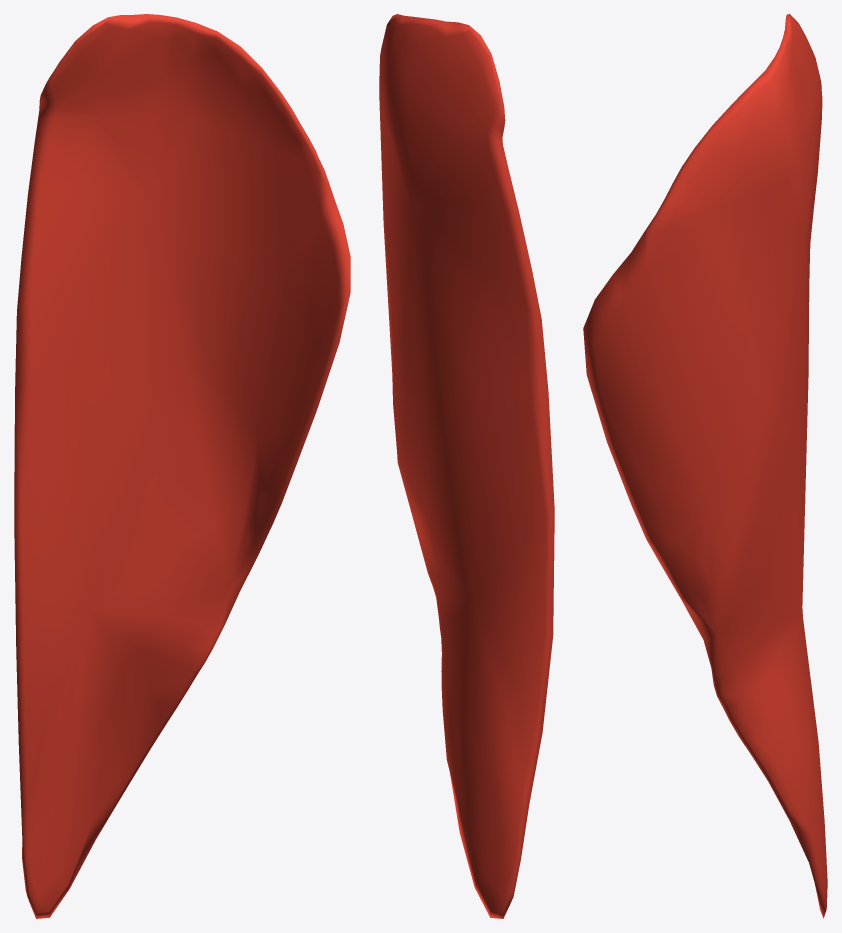
File: Solear_on_solear_crest_on_fibular_head.r_Generated_Mesh_From_X3.glb
The picture shows the model from 3 angles, left to right: view 1: azimuth 30°, elevation 25°; view 2: azimuth 150°, elevation 25°; view 3: azimuth 270°, elevation 25°; orthographic projection. The views are drawn at different scales.
Visible parts, largest first — view 1: Solear_on_solear_crest_on_fibular_head.r_Generated_Mesh_From; view 2: Solear_on_solear_crest_on_fibular_head.r_Generated_Mesh_From; view 3: Solear_on_solear_crest_on_fibular_head.r_Generated_Mesh_From.
Part boxes in pixels (x1,y1,x2,y2): Solear_on_solear_crest_on_fibular_head.r_Generated_Mesh_From: (14, 14, 350, 918); Solear_on_solear_crest_on_fibular_head.r_Generated_Mesh_From: (379, 14, 554, 918); Solear_on_solear_crest_on_fibular_head.r_Generated_Mesh_From: (583, 14, 827, 918).
Bounding box in the file's own units: 0.0141 × 0.0504 × 0.0121.
